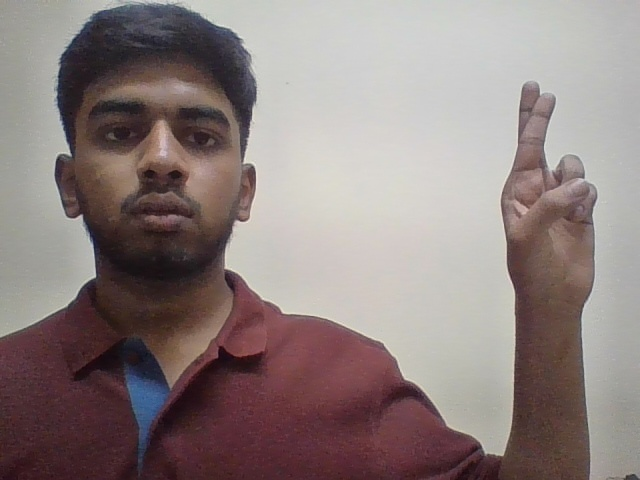R: (474, 64, 629, 316)
